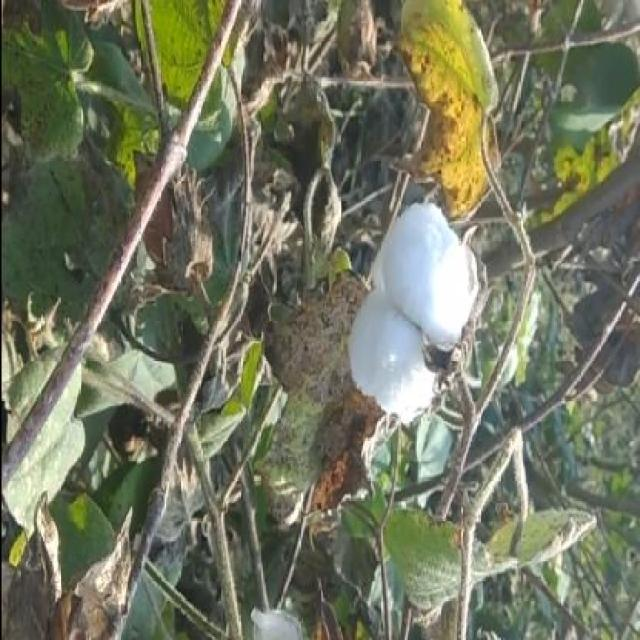cotton_ready: (338, 174, 479, 446)
